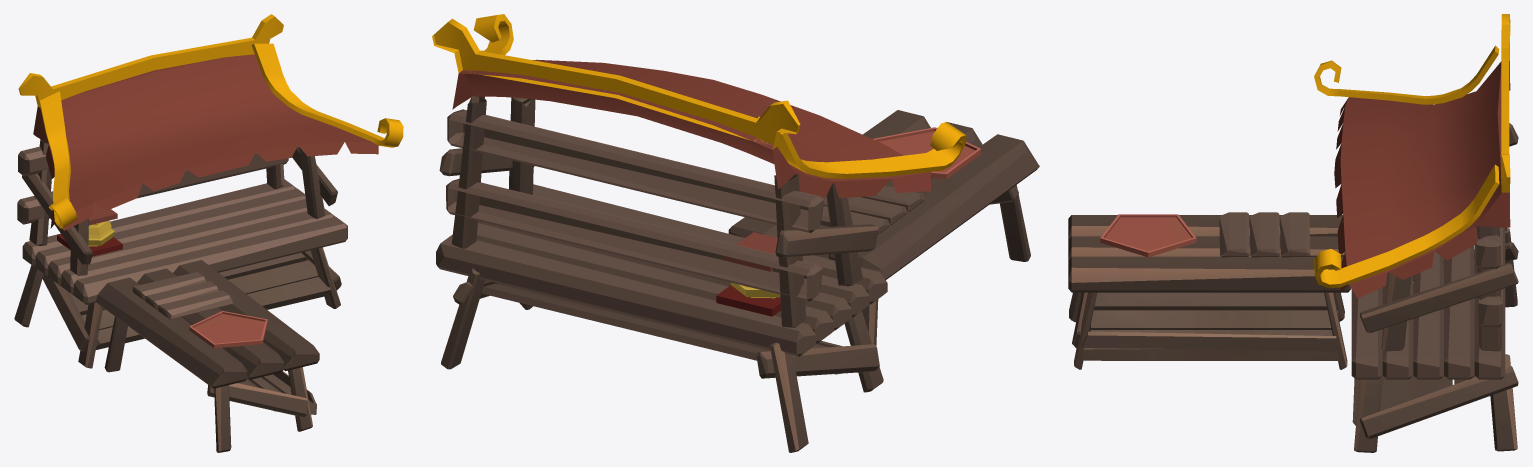
File: shop_2lvl.fbx
3 renders of one model, left to right at view 1: azimuth 30°, elevation 25°; view 2: azimuth 150°, elevation 25°; view 3: azimuth 270°, elevation 25°, orthographic. The views are drawn at different scales.
Parts seen in each view (by area): view 1: shop_2lvl; view 2: shop_2lvl; view 3: shop_2lvl.
Part boxes in pixels (<box>): shop_2lvl: <box>14,14,403,452</box>; shop_2lvl: <box>432,14,1039,452</box>; shop_2lvl: <box>1068,14,1518,452</box>.
Size of the model in its own units: 3.91 by 2.67 by 3.65.
